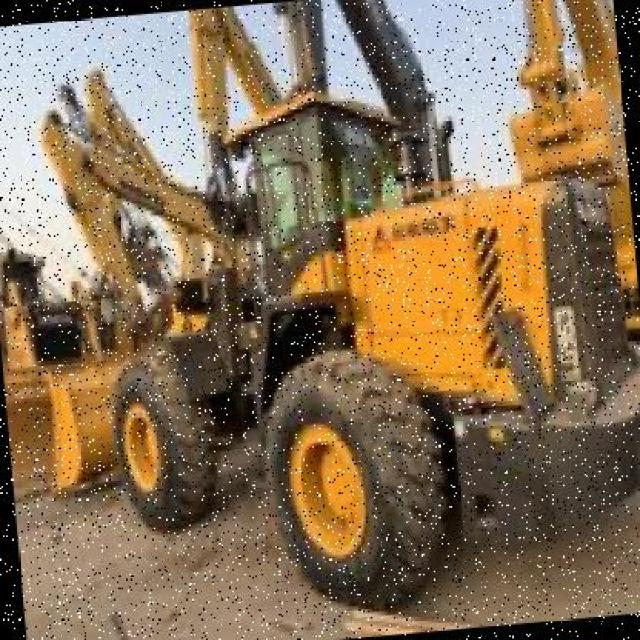buldozerpayloadergrader: (14, 4, 640, 616)
